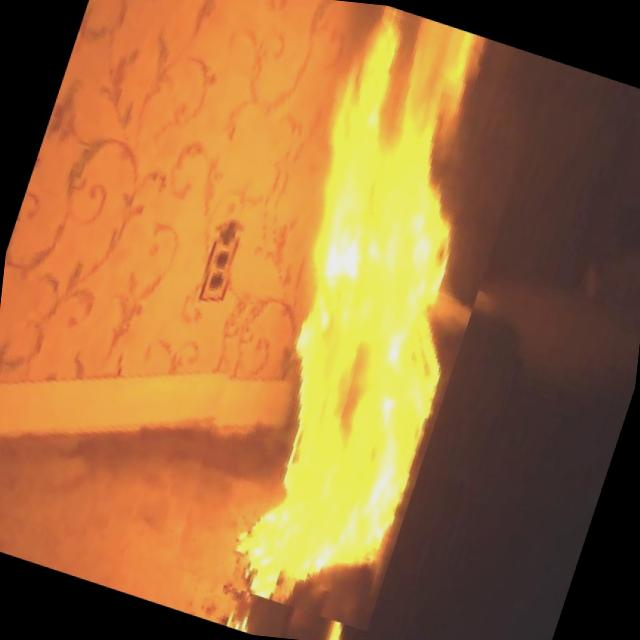fire: (159, 0, 568, 591)
